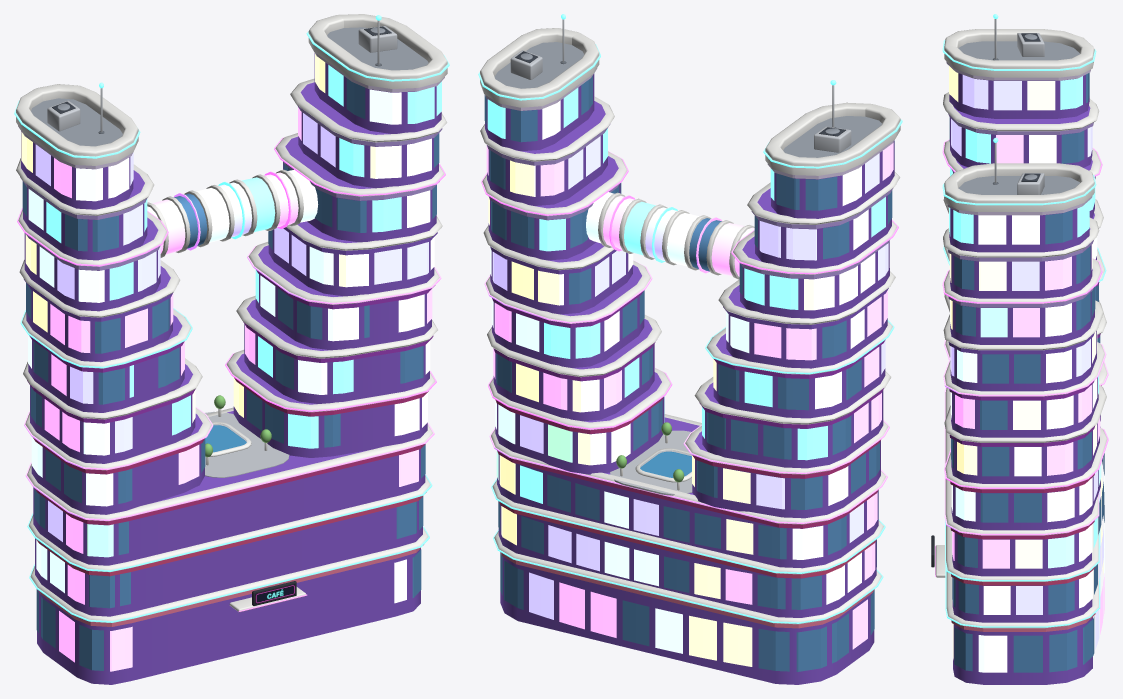
The model's file is predio_u_ondulado_lilas.glb.
3 views of the same model, side by side, from view 1: azimuth 30°, elevation 25°; view 2: azimuth 150°, elevation 25°; view 3: azimuth 270°, elevation 25° (orthographic). The views are drawn at different scales.
Parts seen in each view (by area): view 1: predio_u_ondulado_lilas; view 2: predio_u_ondulado_lilas; view 3: predio_u_ondulado_lilas.
Part boxes in pixels (box(x1,y1,x2,y2)): predio_u_ondulado_lilas: box(14, 14, 449, 684); predio_u_ondulado_lilas: box(478, 14, 902, 684); predio_u_ondulado_lilas: box(931, 14, 1108, 684).
Bounding box in the file's own units: 25.14 × 36.2 × 10.91.
14 materials, 2 textured.
